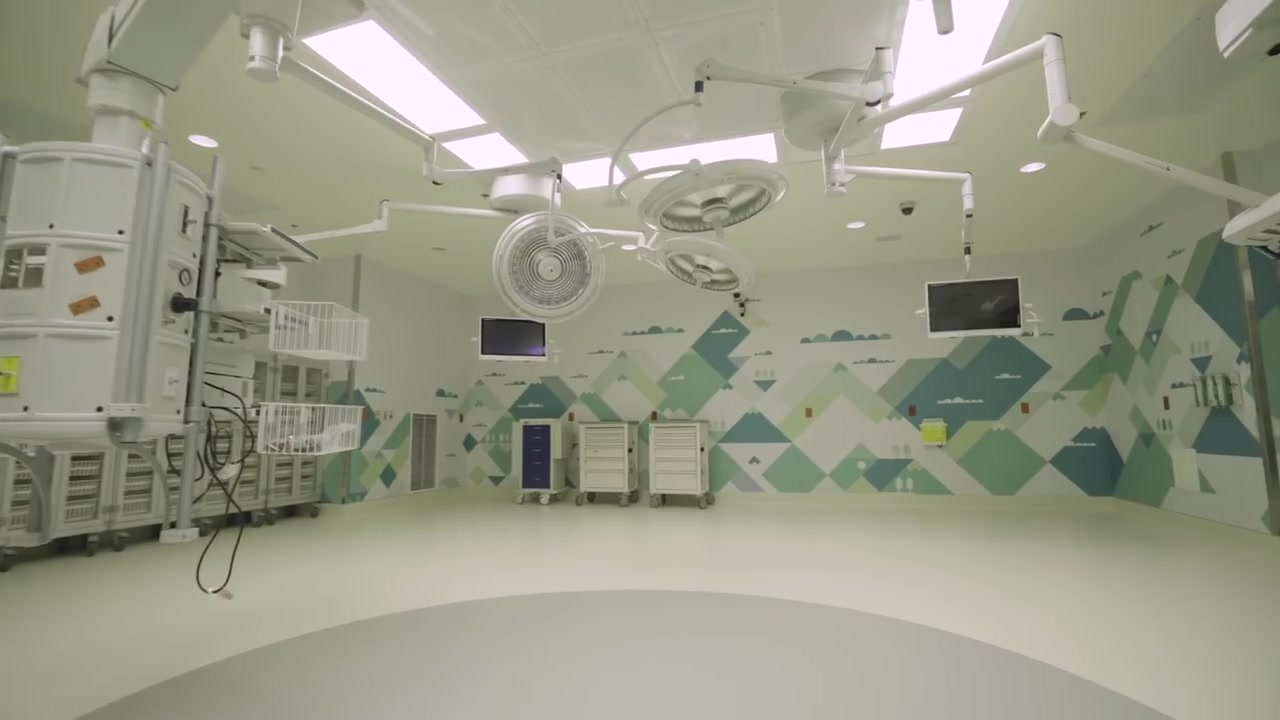bedside_monitor: (924, 275, 1024, 339), (479, 315, 549, 360)
dispenser: (919, 417, 947, 448)
handle: (530, 424, 542, 430), (531, 434, 541, 440), (531, 476, 543, 480), (533, 448, 543, 452), (536, 461, 546, 465)
medical_drawer: (574, 417, 637, 508), (646, 422, 709, 508), (511, 416, 566, 506)
surgical_light: (492, 211, 607, 320), (637, 159, 790, 237), (658, 241, 748, 294)
